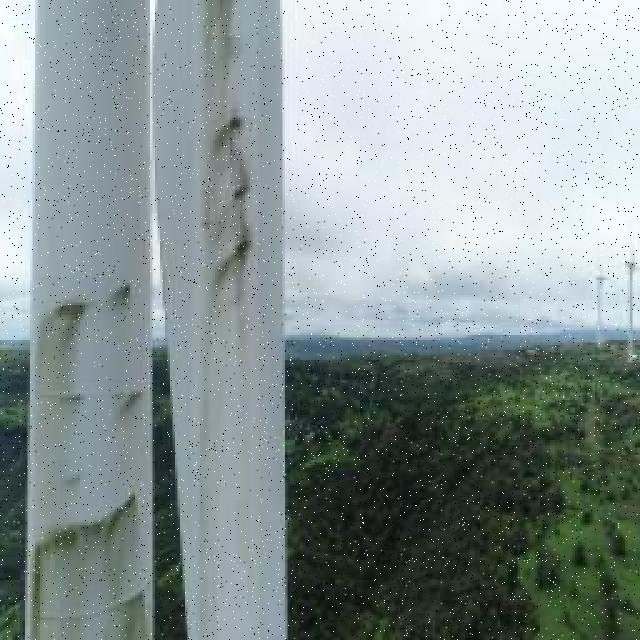Dirt: (189, 1, 268, 640), (27, 267, 155, 640)
Pin Hole: (115, 284, 137, 306), (235, 235, 252, 260), (226, 112, 244, 132), (234, 182, 251, 202)
